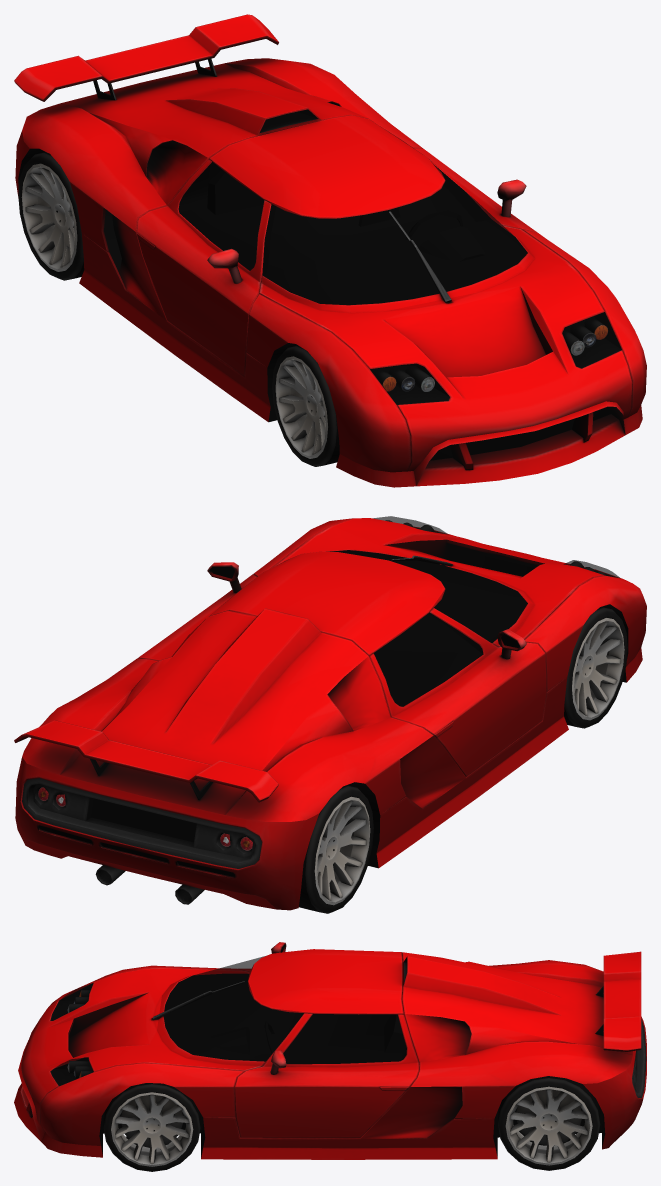
Rendered from car_sport.glb.
The picture shows the model from 3 angles, top to bottom: view 1: azimuth 30°, elevation 25°; view 2: azimuth 150°, elevation 25°; view 3: azimuth 270°, elevation 25°; orthographic projection. The views are drawn at different scales.
Visible parts, largest first — view 1: Sport_body, Wheel_H003, Wheel_H002; view 2: Sport_body, Wheel_H003, Wheel_H002; view 3: Sport_body, Wheel_H001, Wheel_H.
Boxes of the visible parts, x1,y1,x2,y2 form: Sport_body: (14,14,646,487); Wheel_H003: (18,152,84,280); Wheel_H002: (272,345,339,466); Sport_body: (14,516,646,910); Wheel_H003: (299,785,373,913); Wheel_H002: (564,606,627,728); Sport_body: (14,942,646,1159); Wheel_H001: (498,1076,600,1170); Wheel_H: (103,1083,200,1171).
Bounding box in the file's own units: 1.77 × 1.04 × 3.91.
4 materials, 3 textured.
